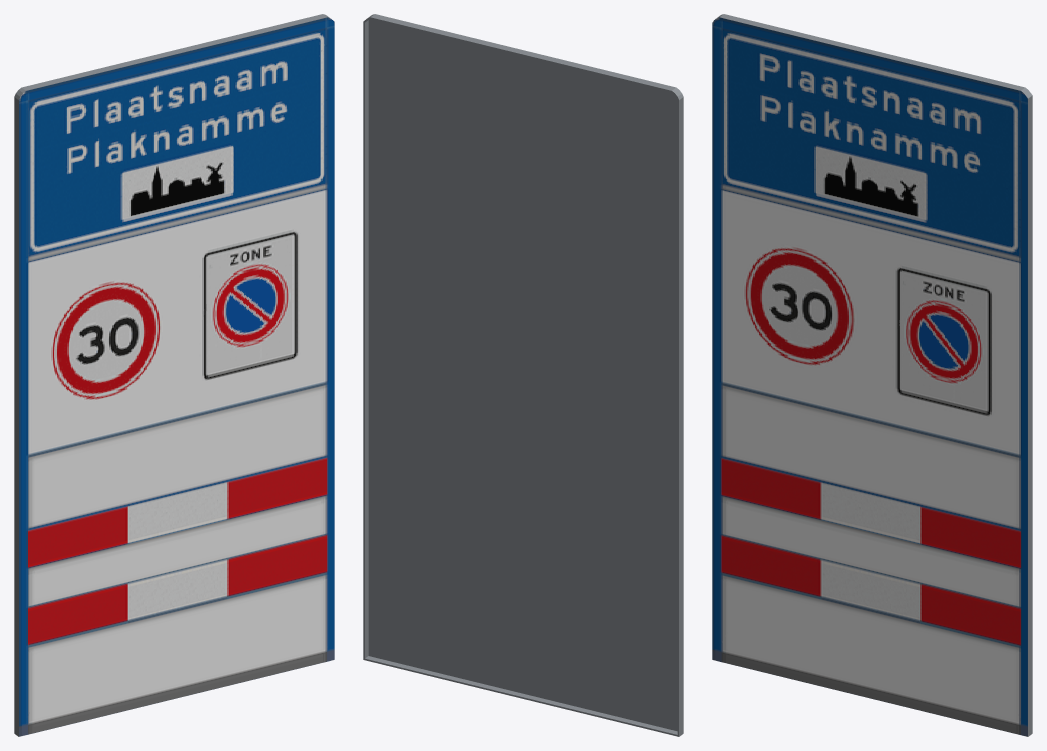
The picture shows the model from 3 angles, left to right: view 1: azimuth 30°, elevation 25°; view 2: azimuth 150°, elevation 25°; view 3: azimuth 330°, elevation 25°; orthographic projection.
Visible parts, largest first — view 1: cat_12f5379b091306a5; view 2: cat_12f5379b091306a5; view 3: cat_12f5379b091306a5.
Boxes of the visible parts, x1,y1,x2,y2 form: cat_12f5379b091306a5: [14, 14, 334, 736]; cat_12f5379b091306a5: [363, 14, 683, 736]; cat_12f5379b091306a5: [712, 14, 1032, 736].
Size of the model in its own units: 0.6 by 0.015 by 1.17.
2 materials, 1 textured.
